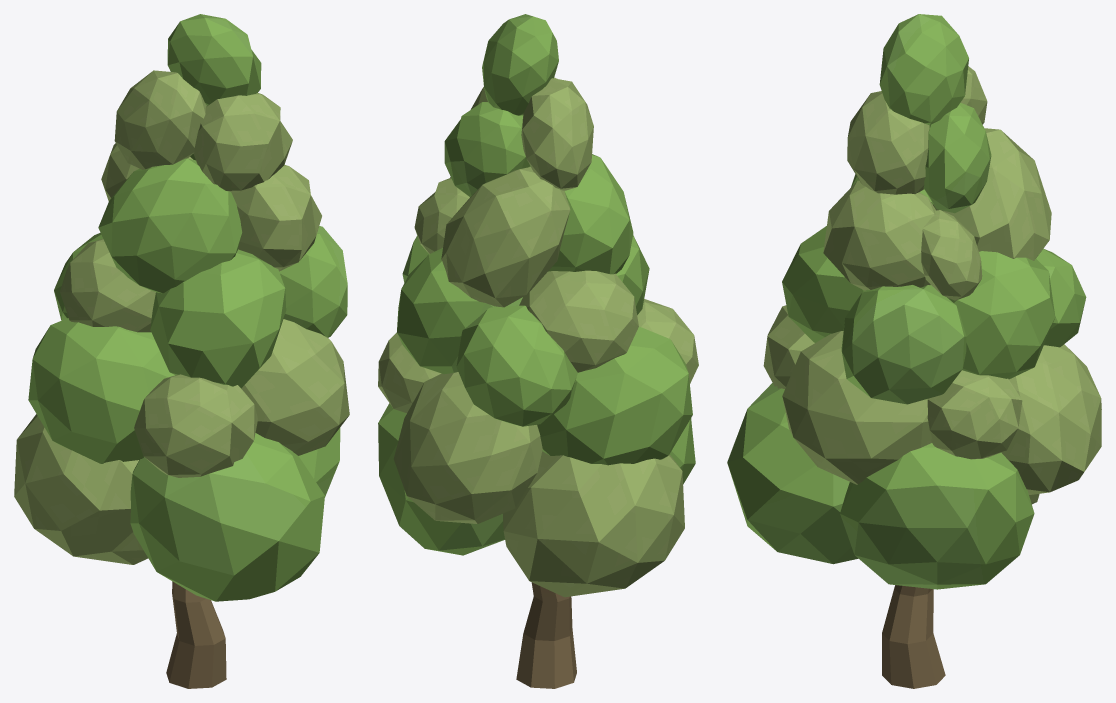
Rendered from tree4.obj.
The picture shows the model from 3 angles, left to right: view 1: azimuth 30°, elevation 25°; view 2: azimuth 150°, elevation 25°; view 3: azimuth 270°, elevation 25°; orthographic projection. The views are drawn at different scales.
Visible parts, largest first — view 1: Poplar_Tree; view 2: Poplar_Tree; view 3: Poplar_Tree.
Part boxes in pixels (left/top/right/bottom): Poplar_Tree: left=14, top=14, right=349, bottom=688; Poplar_Tree: left=378, top=14, right=698, bottom=688; Poplar_Tree: left=727, top=14, right=1101, bottom=688.
Size of the model in its own units: 2.69 by 5.82 by 2.96.
Materials: 1 (1 with a texture image).
